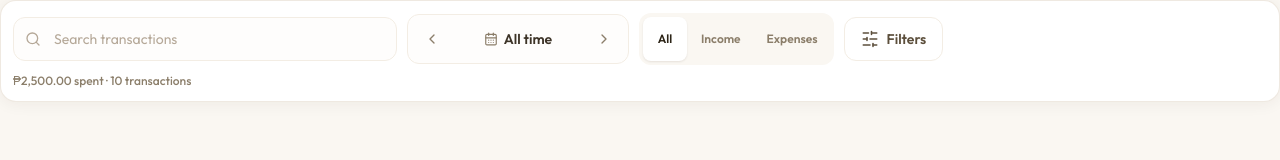
Test: TransactionFiltersBar › returns safely from All time to the account current month
Click the button named "Next period".
click(604, 39)  # box x1=582 y1=17 x2=626 y2=61
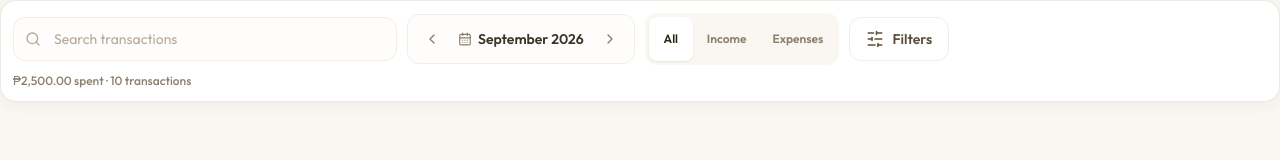
Result: the text "September 2026" is shown at x1=478 y1=29 x2=584 y2=49
